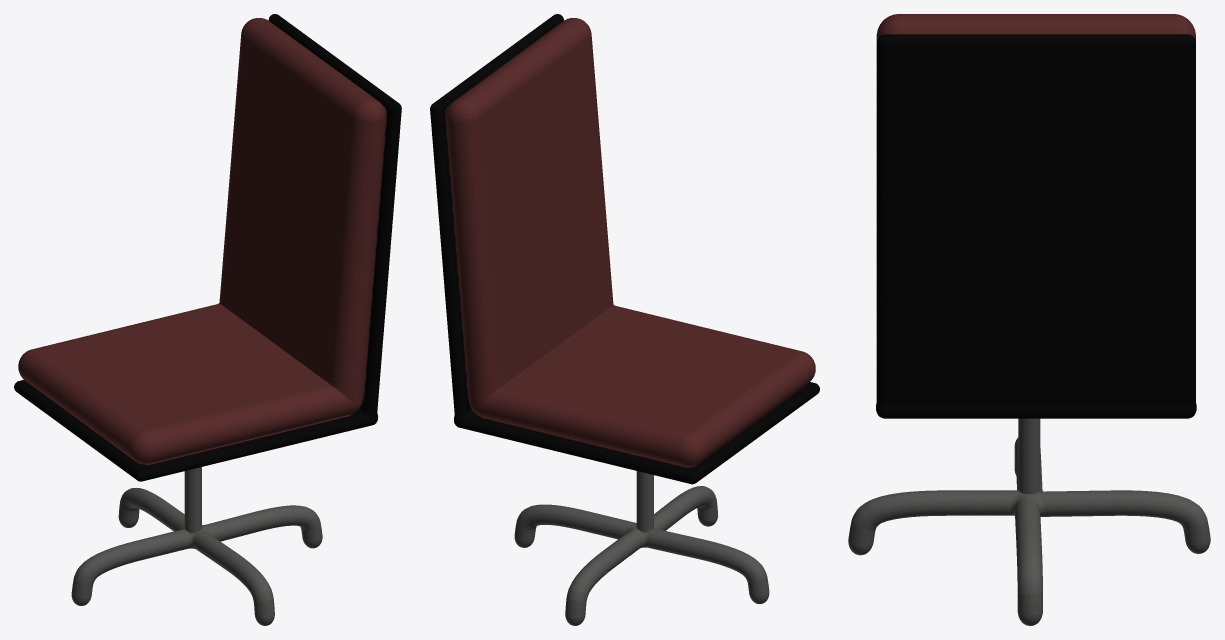
File: drehstuhl_2.glb
The picture shows the model from 3 angles, left to right: view 1: azimuth 30°, elevation 25°; view 2: azimuth 150°, elevation 25°; view 3: azimuth 270°, elevation 25°; orthographic projection. The views are drawn at different scales.
Parts seen in each view (by area): view 1: 282318_23_05_24_17_51_35_0, 282318_23_05_24_17_51_35_1; view 2: 282318_23_05_24_17_51_35_0, 282318_23_05_24_17_51_35_1; view 3: 282318_23_05_24_17_51_35_0, 282318_23_05_24_17_51_35_1.
Boxes of the visible parts, <box> form: 282318_23_05_24_17_51_35_0: <box>14,14,401,533</box>; 282318_23_05_24_17_51_35_1: <box>71,488,322,625</box>; 282318_23_05_24_17_51_35_0: <box>430,14,819,532</box>; 282318_23_05_24_17_51_35_1: <box>514,486,769,625</box>; 282318_23_05_24_17_51_35_0: <box>876,14,1196,494</box>; 282318_23_05_24_17_51_35_1: <box>848,437,1210,625</box>.
Size of the model in its own units: 5.71 by 9.77 by 5.25.
2 materials, 2 textured.
